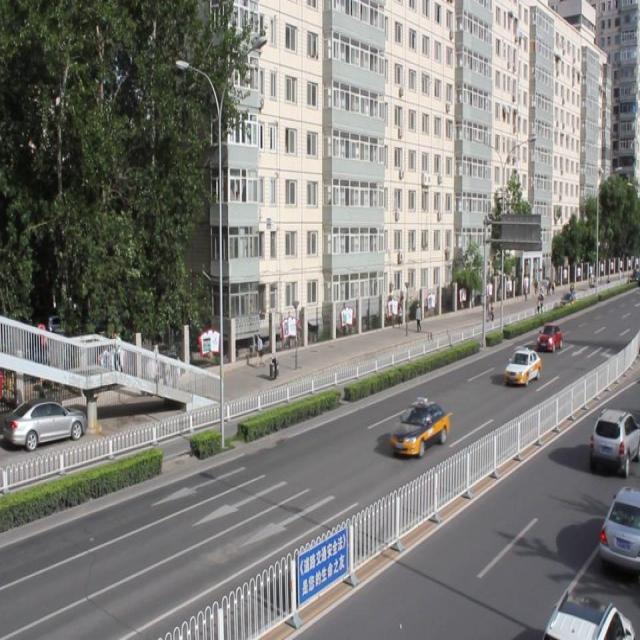car: (540, 589, 640, 640), (598, 484, 640, 566), (389, 400, 448, 458), (588, 406, 640, 469), (503, 346, 540, 386), (536, 322, 562, 351)
